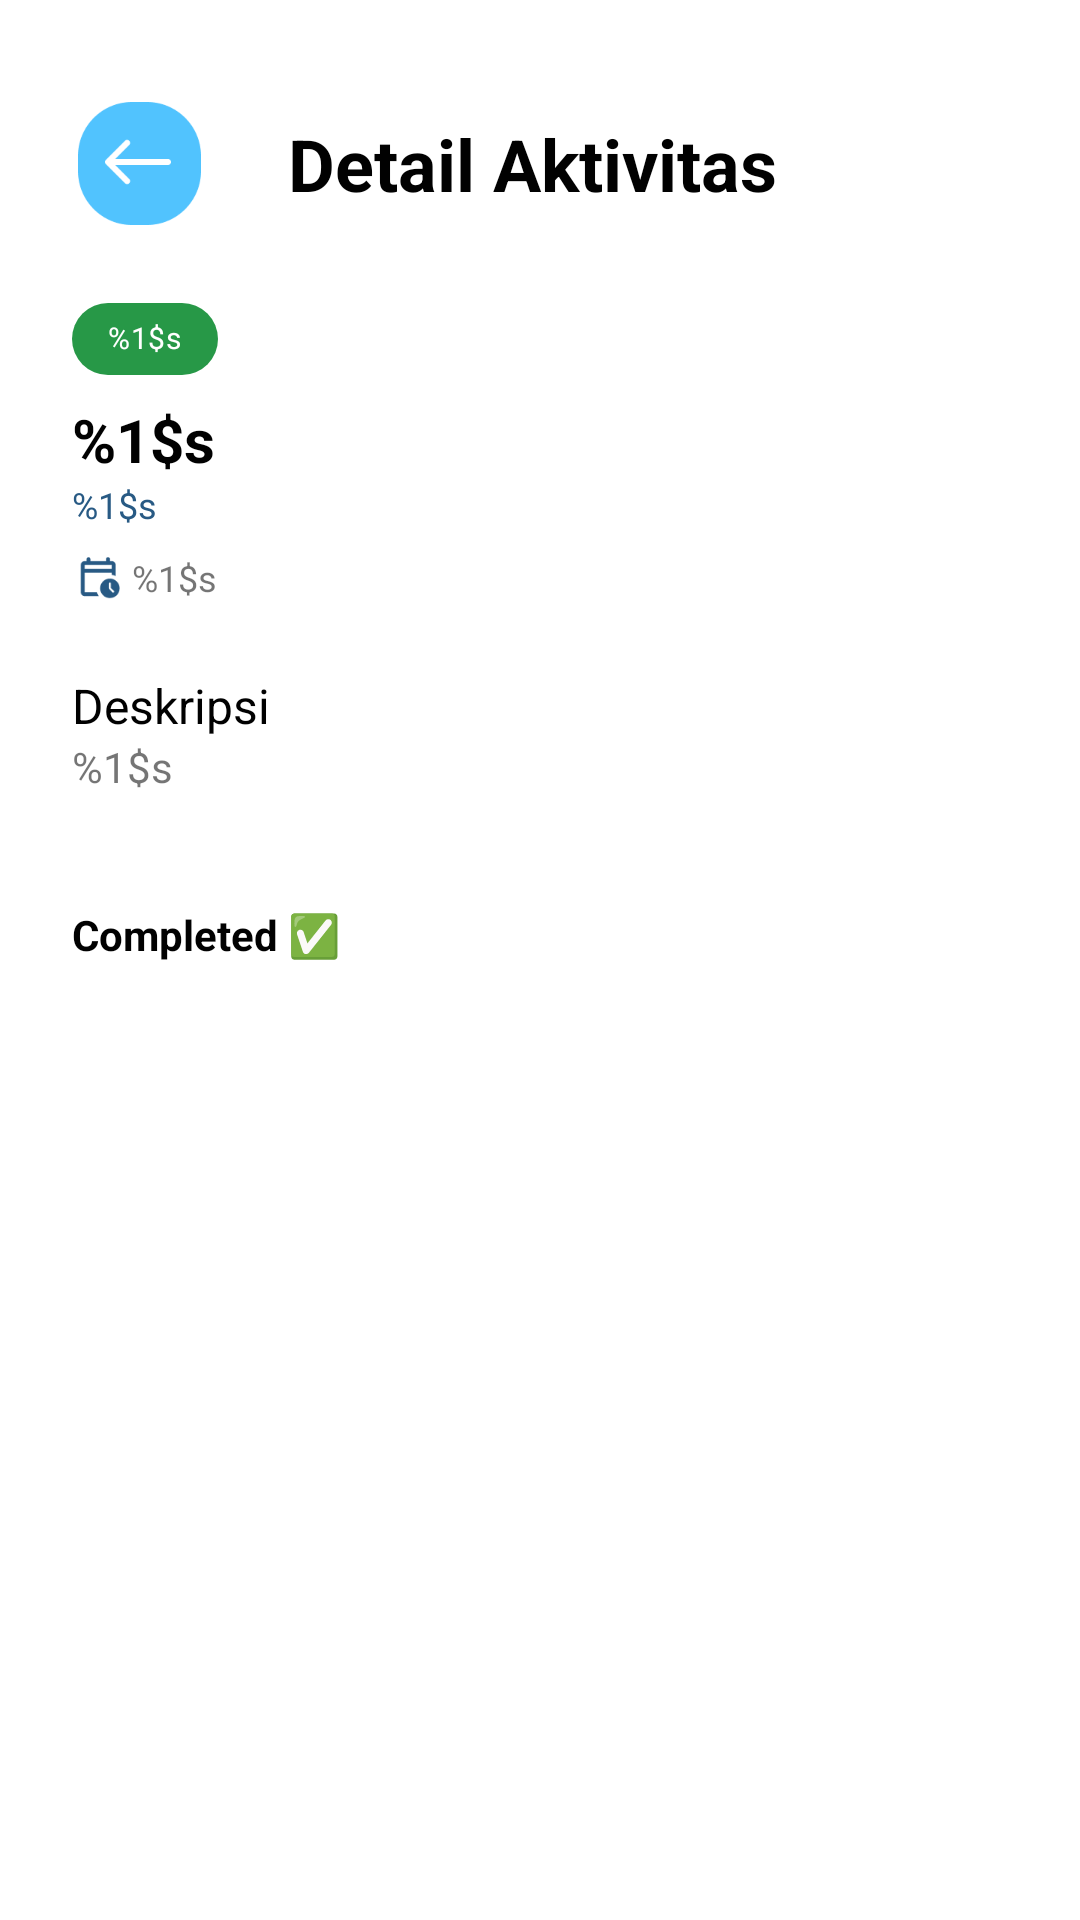

Locate icon controls on the screen. Image size 1080px x 1920px, boxes as (x1, y1, x2, y2).
back: (78, 102, 201, 225)
calendar clock: (80, 557, 120, 599)
